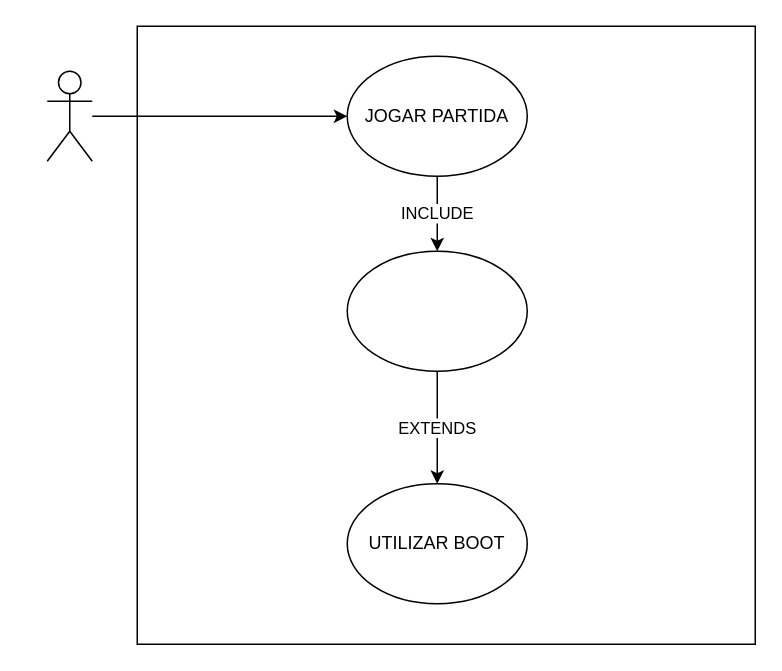
This 782x671 diagram has some shape labels left out. Each missing label, with the centre of its shape:
"JOGADOR" belongs at (69,115).
"VALIDAR NIVEL" belongs at (436,310).
